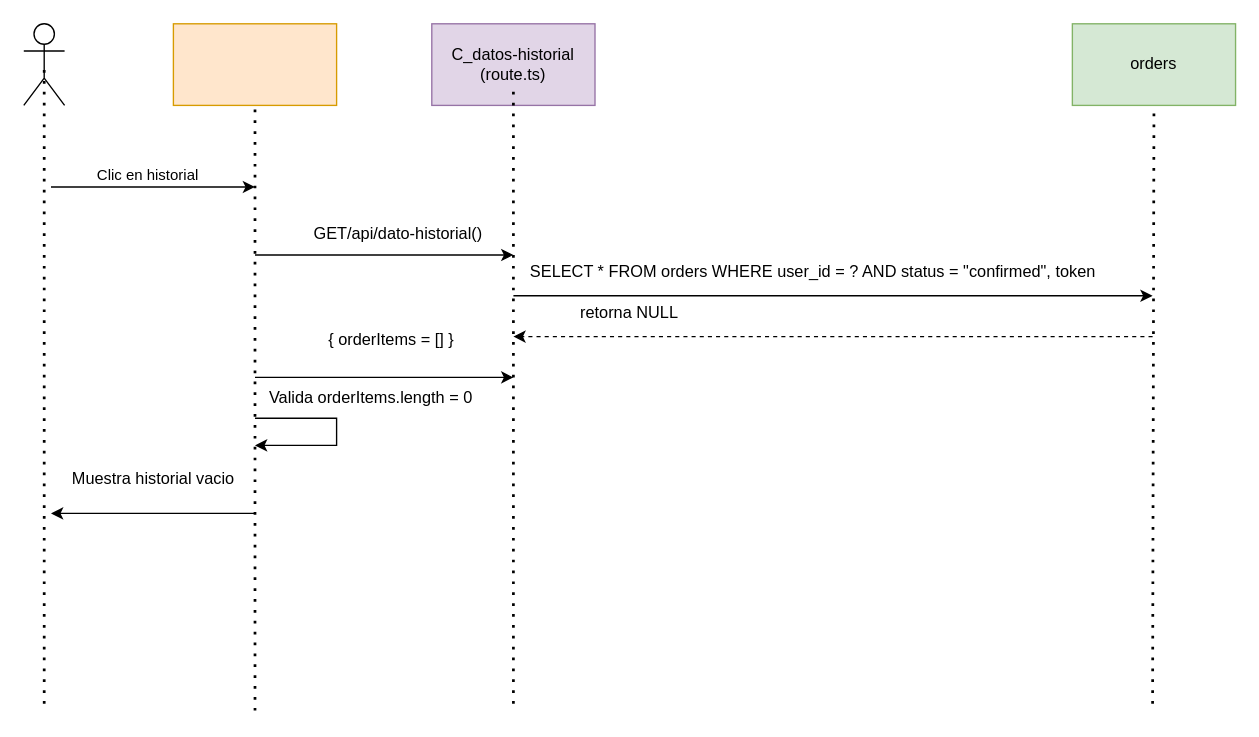
Some shapes in this 1259 by 737 pixel diagram are drawn without their labels. Each missing label, with the centre of its shape:
"Actor" goes at (x=43, y=63).
"V_historial" goes at (x=254, y=63).
